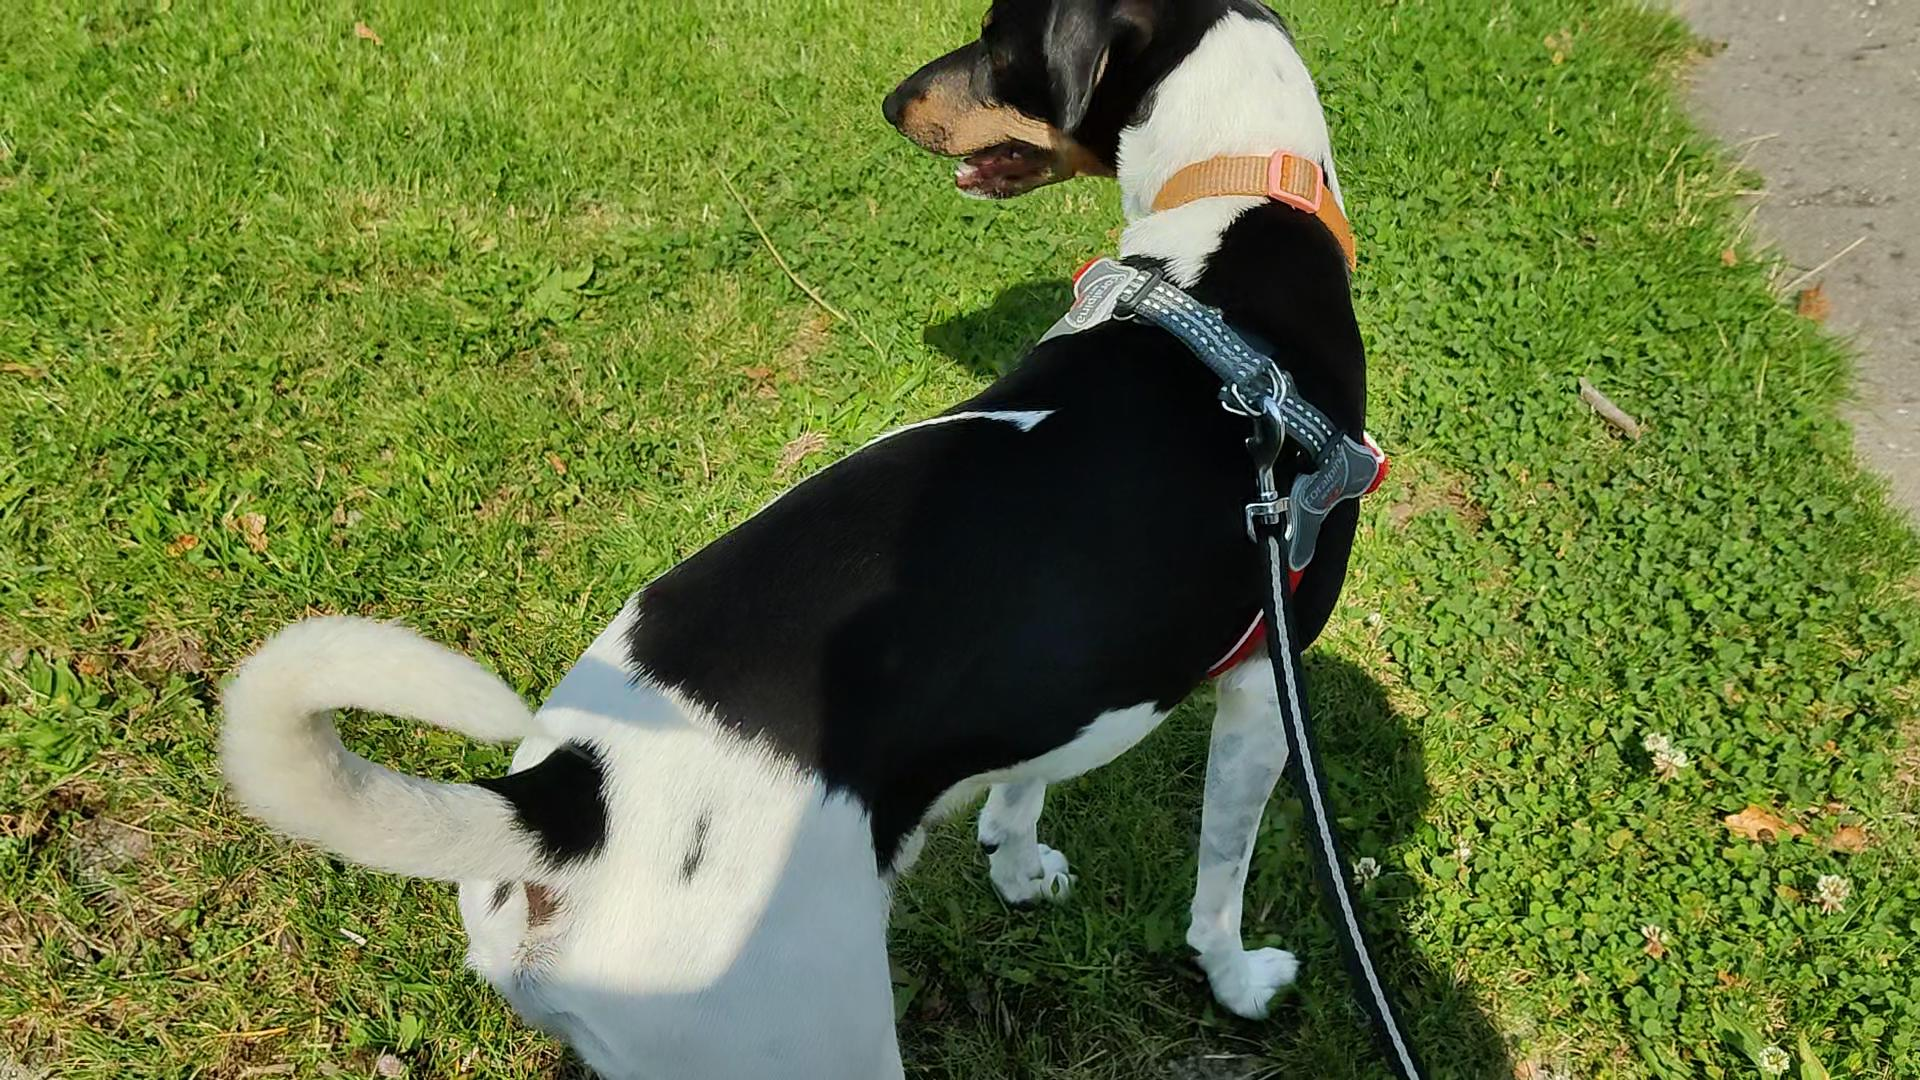Dog: (202, 0, 1389, 1079)
